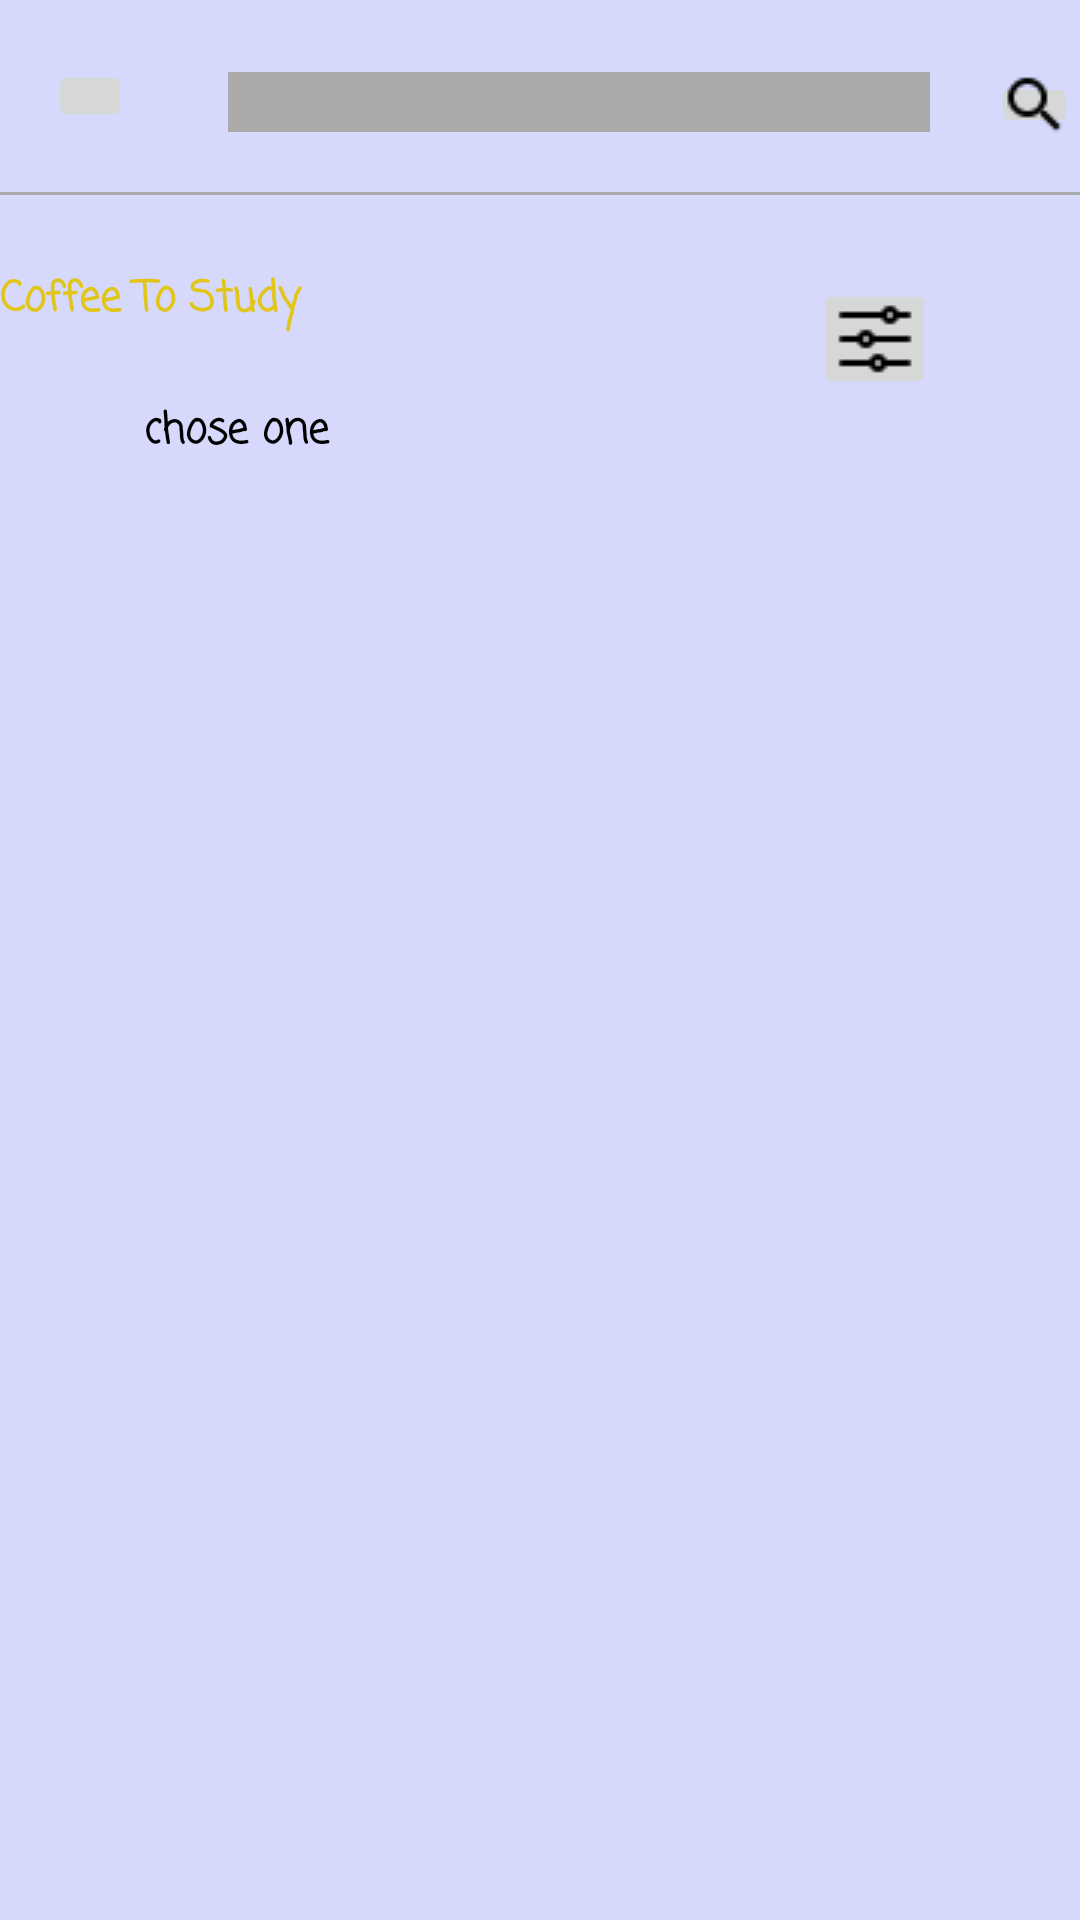

Icon bounding boxes for this 1080 × 1920 phone screenshot, format (x1, y1, x2, y2):
search: (1003, 77, 1066, 131)
slider: (825, 297, 924, 381)
